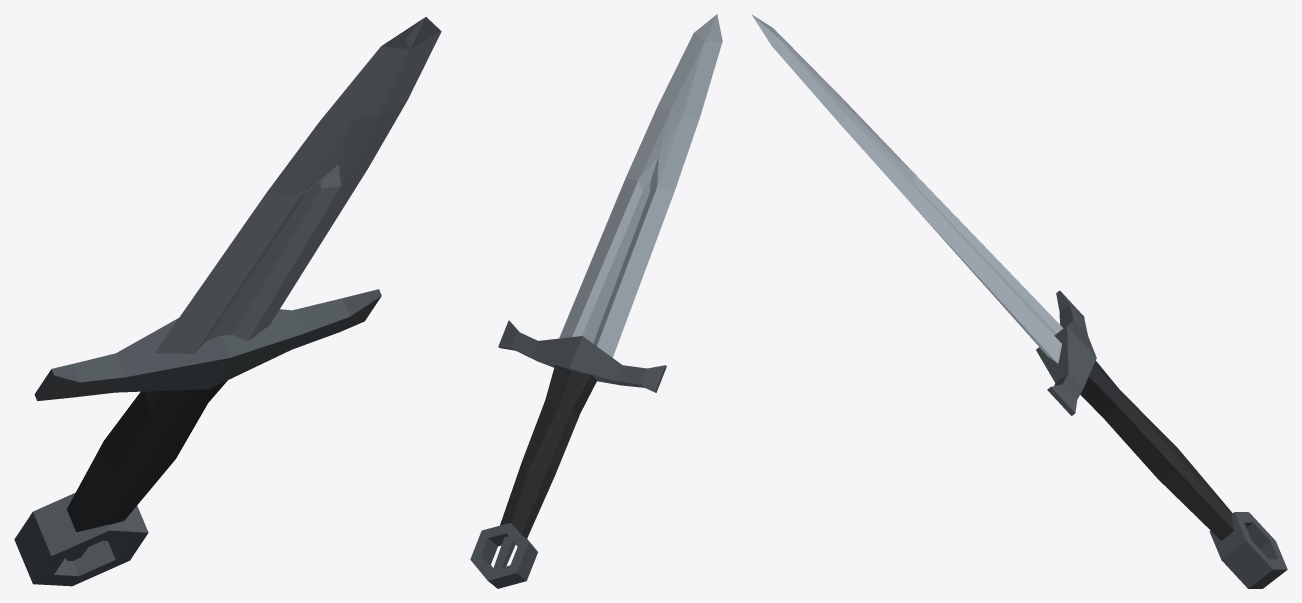
The model's file is fk-dagger-05.glb.
The picture shows the model from 3 angles, left to right: view 1: azimuth 30°, elevation 25°; view 2: azimuth 150°, elevation 25°; view 3: azimuth 270°, elevation 25°; orthographic projection. The views are drawn at different scales.
Parts seen in each view (by area): view 1: fk-dagger-05; view 2: fk-dagger-05; view 3: fk-dagger-05.
Boxes of the visible parts, x1=… form: fk-dagger-05: x1=14, y1=17, x2=441, y2=586; fk-dagger-05: x1=470, y1=14, x2=722, y2=588; fk-dagger-05: x1=751, y1=14, x2=1287, y2=588.
Size of the model in its own units: 0.2239 by 0.5769 by 0.4996.
Materials: 1 (1 with a texture image).
